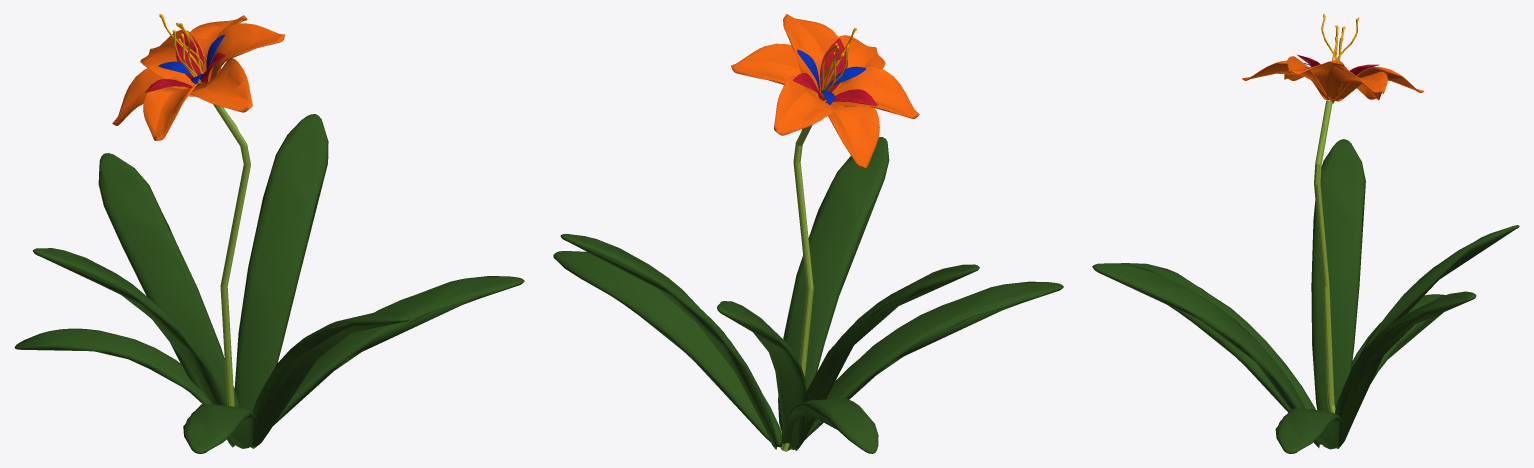
The model's file is flor_NARANJA.fbx.
The picture shows the model from 3 angles, left to right: view 1: azimuth 30°, elevation 25°; view 2: azimuth 150°, elevation 25°; view 3: azimuth 270°, elevation 25°; orthographic projection. The views are drawn at different scales.
Visible parts, largest first — view 1: Cubo.350, Cubo.059, Cubo.054, Cubo.352, Cubo.353, Cubo.348, Cubo.055, Plano.060, PetaloGrande4.012, PetaloGrande5.012, PetaloGrande3.012, PetaloGrande1.008 (+3 smaller); view 2: Cubo.352, Cubo.054, Cubo.055, Cubo.350, Cubo.353, Cubo.059, Cubo.348, PetaloGrande6.013, PetaloGrande5.012, PetaloGrande1.008, Plano.060, PetaloGrande2.012 (+3 smaller); view 3: Cubo.353, Cubo.352, Cubo.350, Cubo.055, Cubo.054, Cubo.059, Plano.060, PetaloGrande2.012, Cubo.348, PetaloGrande3.012, PetaloGrande4.012, PetaloGrande1.008.
Boxes of the visible parts, x1=… form: Cubo.350: x1=234, y1=114, x2=328, y2=411; Cubo.059: x1=98, y1=153, x2=239, y2=407; Cubo.054: x1=273, y1=276, x2=524, y2=425; Cubo.352: x1=250, y1=310, x2=409, y2=448; Cubo.353: x1=32, y1=248, x2=234, y2=447; Cubo.348: x1=14, y1=328, x2=211, y2=404; Cubo.055: x1=183, y1=403, x2=256, y2=453; Plano.060: x1=213, y1=104, x2=250, y2=406; PetaloGrande4.012: x1=190, y1=58, x2=252, y2=112; PetaloGrande5.012: x1=143, y1=82, x2=206, y2=140; PetaloGrande3.012: x1=210, y1=23, x2=285, y2=80; PetaloGrande1.008: x1=140, y1=29, x2=204, y2=86; Cubo.352: x1=778, y1=137, x2=889, y2=433; Cubo.054: x1=553, y1=251, x2=782, y2=447; Cubo.055: x1=804, y1=281, x2=1063, y2=440; Cubo.350: x1=560, y1=234, x2=777, y2=449; Cubo.353: x1=793, y1=264, x2=979, y2=450; Cubo.059: x1=717, y1=301, x2=807, y2=449; Cubo.348: x1=781, y1=397, x2=878, y2=453; PetaloGrande6.013: x1=827, y1=103, x2=879, y2=168; PetaloGrande5.012: x1=824, y1=66, x2=919, y2=118; PetaloGrande1.008: x1=774, y1=76, x2=838, y2=135; Plano.060: x1=781, y1=125, x2=813, y2=451; PetaloGrande2.012: x1=731, y1=43, x2=816, y2=96; Cubo.353: x1=1311, y1=139, x2=1365, y2=411; Cubo.352: x1=1092, y1=263, x2=1319, y2=447; Cubo.350: x1=1334, y1=291, x2=1476, y2=448; Cubo.055: x1=1121, y1=263, x2=1321, y2=444; Cubo.054: x1=1275, y1=408, x2=1342, y2=453; Cubo.059: x1=1358, y1=225, x2=1519, y2=357; Plano.060: x1=1314, y1=100, x2=1335, y2=413; PetaloGrande2.012: x1=1326, y1=65, x2=1387, y2=101; Cubo.348: x1=1351, y1=294, x2=1445, y2=382; PetaloGrande3.012: x1=1287, y1=56, x2=1344, y2=100; PetaloGrande4.012: x1=1242, y1=60, x2=1331, y2=100; PetaloGrande1.008: x1=1332, y1=66, x2=1424, y2=100.
Bounding box in the file's own units: 1561 × 1431 × 1373.
